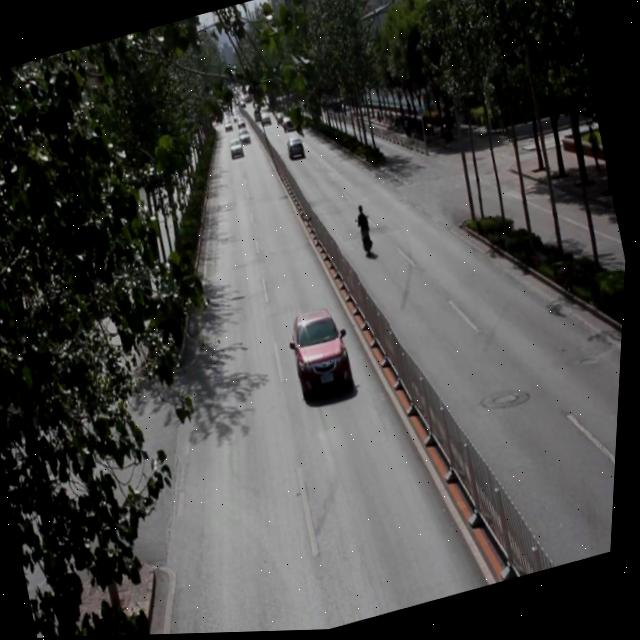car: (286, 303, 364, 406), (285, 134, 307, 161), (227, 137, 246, 161), (238, 128, 254, 146)
